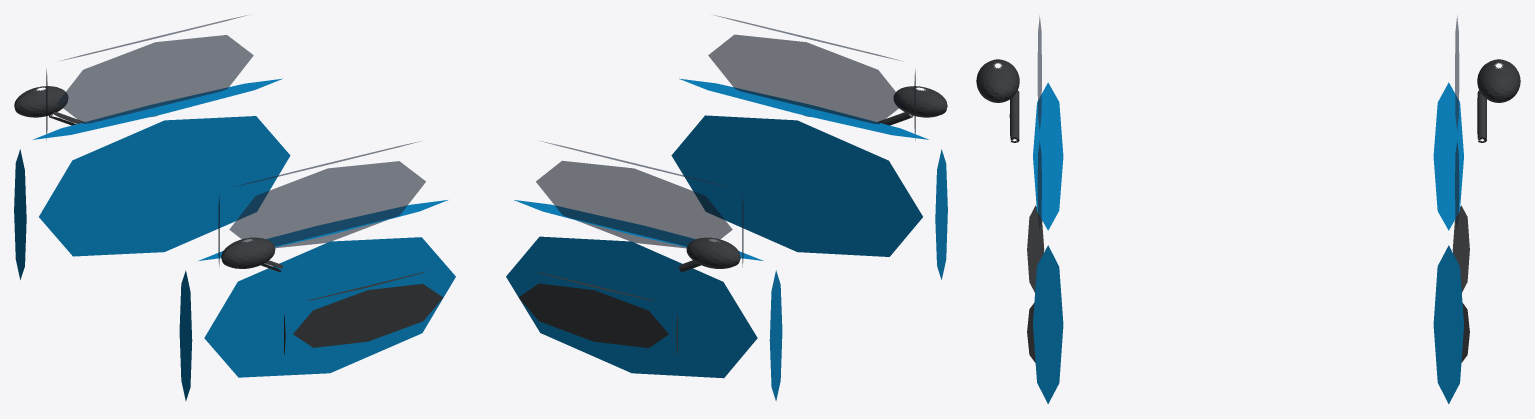
The model's file is doors.glb.
The picture shows the model from 3 angles, left to right: view 1: azimuth 30°, elevation 25°; view 2: azimuth 150°, elevation 25°; view 3: azimuth 270°, elevation 25°; orthographic projection. The views are drawn at different scales.
Visible parts, largest first — view 1: Doors_Assembly; view 2: Doors_Assembly; view 3: Doors_Assembly.
Boxes of the visible parts, box(x1,y1,x2,y2) form: Doors_Assembly: box(14, 15, 455, 401); Doors_Assembly: box(506, 15, 947, 401); Doors_Assembly: box(976, 16, 1520, 403).
Bounding box in the file's own units: 0.92 × 0.6801 × 1.3.
